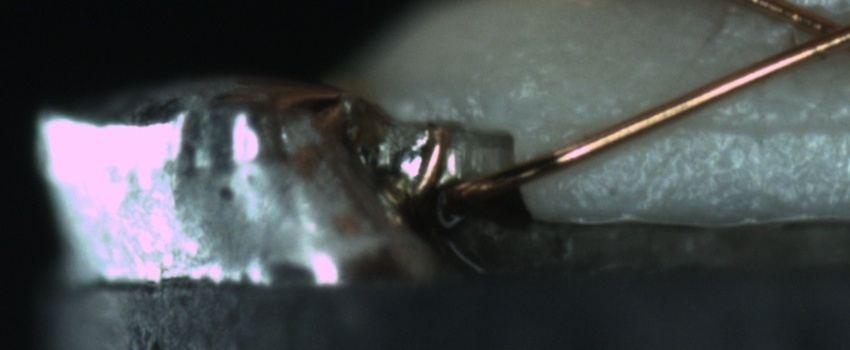CL: (772, 0, 850, 66)
DL: (668, 95, 849, 159)
TE: (389, 115, 457, 208)
